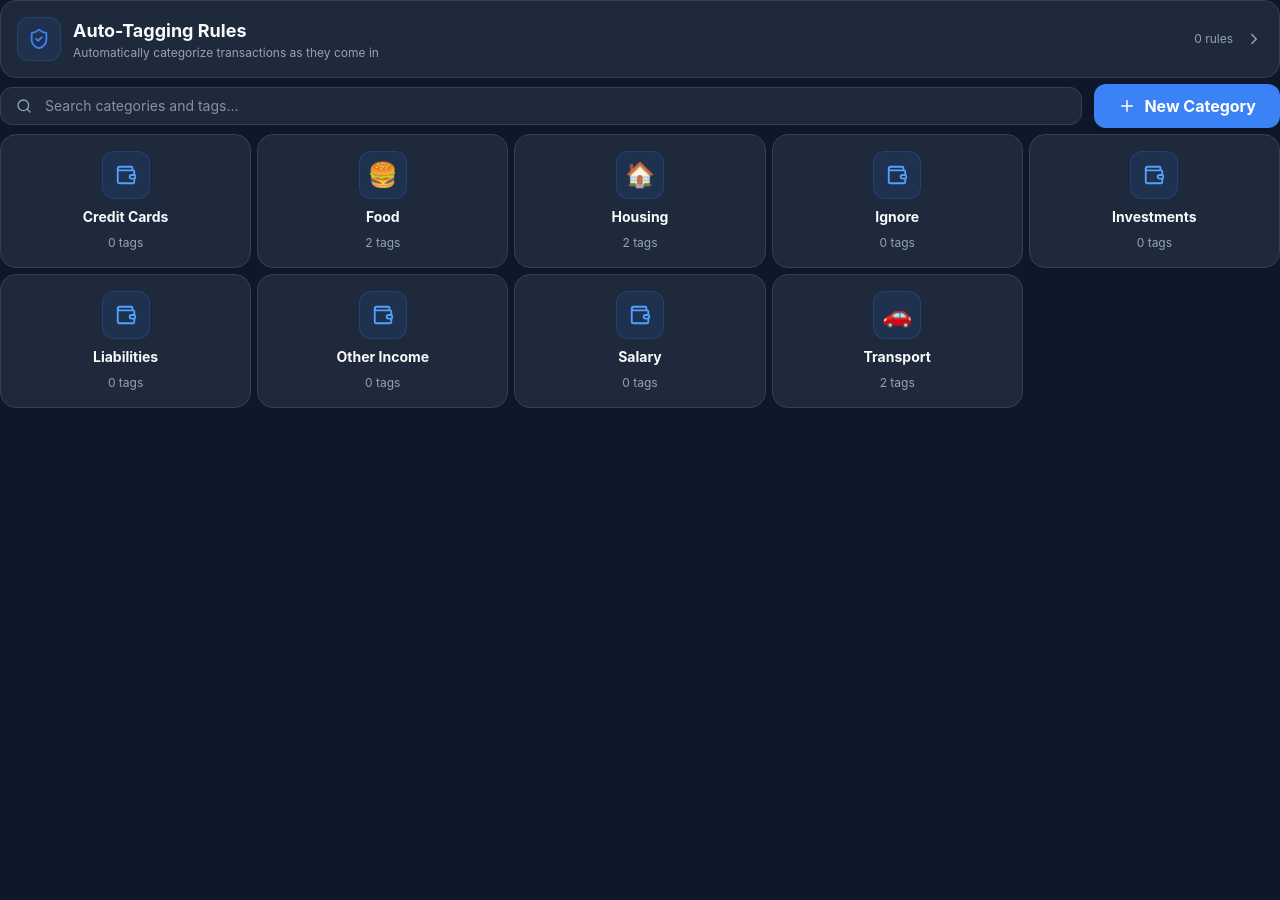
Scenario: Categories › category grid › closes the detail panel when backdrop is clicked
Click the button with test id "category-card-Food" at (383, 201), box [257,134,508,268]
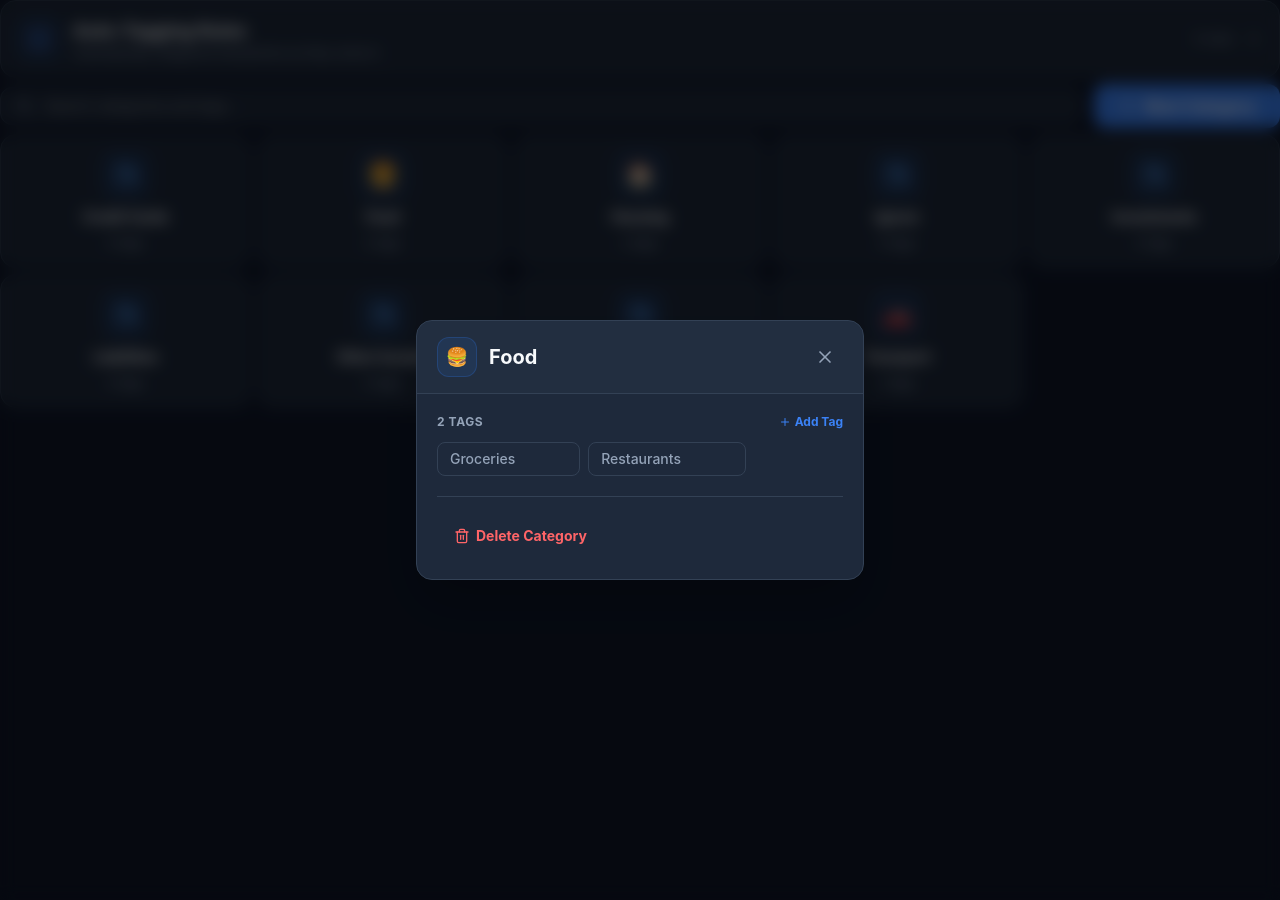
Check: the element with test id "category-panel" is shown, box [416,320,864,580]
Click the element showing "🍔 Food 2 tags Add Tag Groceries Restaurants Delete Category" at (77, 450), box [0,0,1279,899]
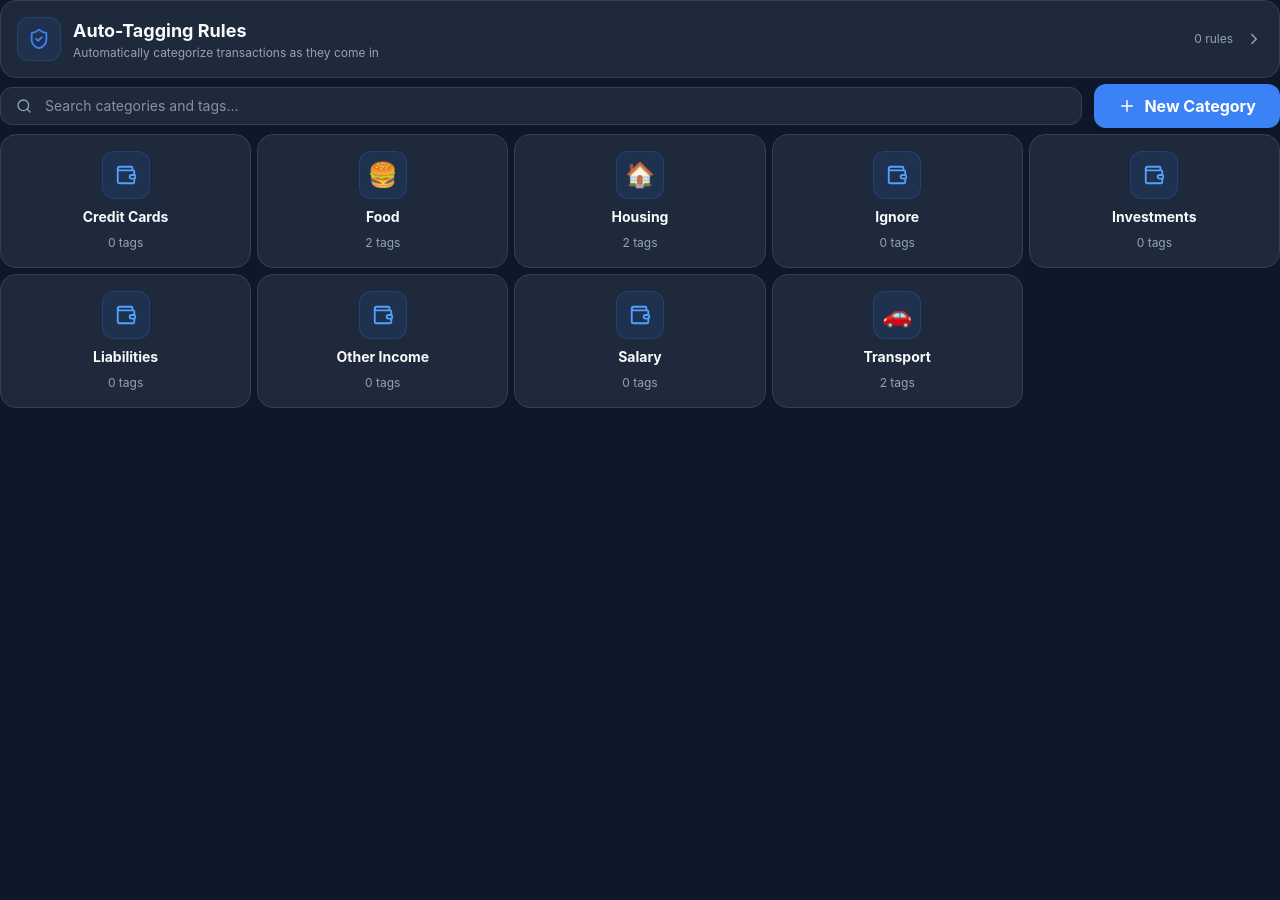
Check: the element with test id "category-panel" is gone
